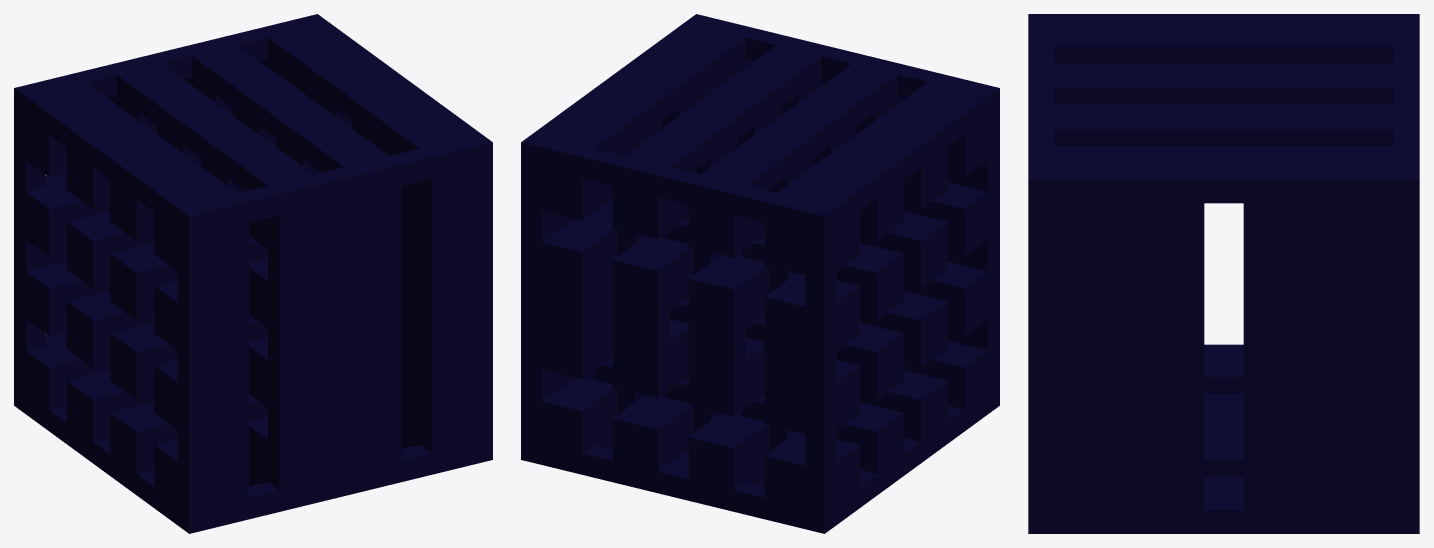
The picture shows the model from 3 angles, left to right: view 1: azimuth 30°, elevation 25°; view 2: azimuth 150°, elevation 25°; view 3: azimuth 270°, elevation 25°; orthographic projection. The views are drawn at different scales.
Parts seen in each view (by area): view 1: Cube; view 2: Cube; view 3: Cube.
Boxes of the visible parts, x1,y1,x2,y2 form: Cube: (14,14,492,533); Cube: (521,14,999,533); Cube: (1028,14,1419,533).
Size of the model in its own units: 200 by 200 by 200.
